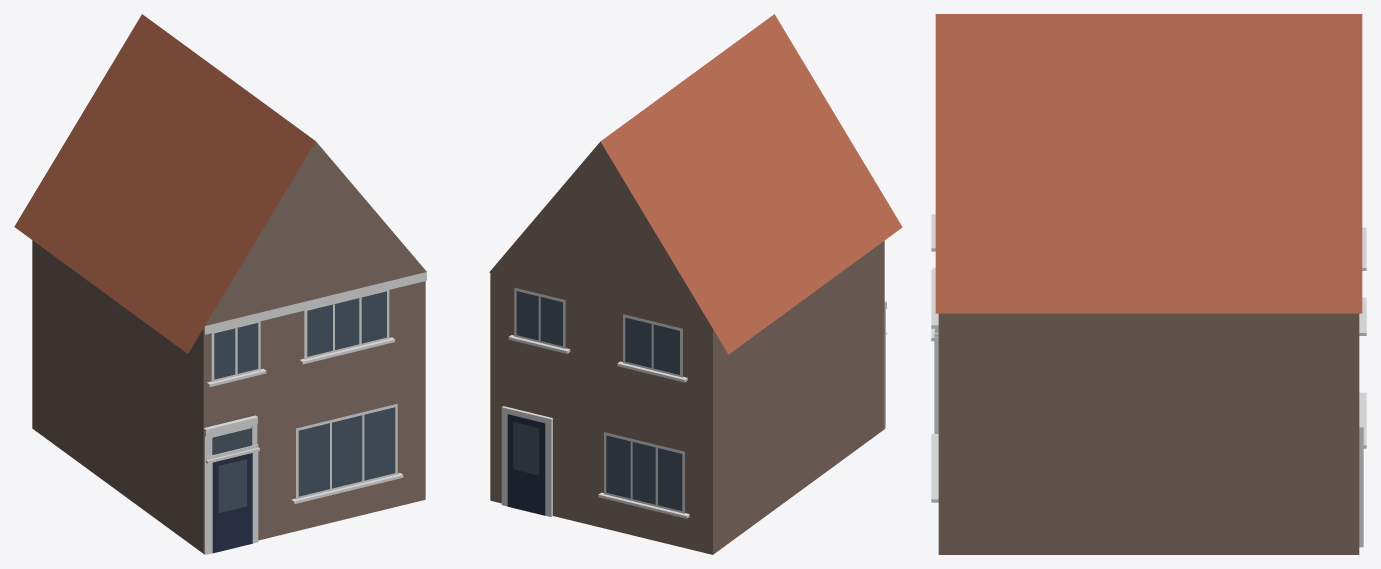
File: nn-row__wide-orange__2__gable__short__solid.glb
3 renders of one model, left to right at view 1: azimuth 30°, elevation 25°; view 2: azimuth 150°, elevation 25°; view 3: azimuth 270°, elevation 25°, orthographic. The views are drawn at different scales.
Parts seen in each view (by area): view 1: nn-row__wide-orange__2__gable__short__solid; view 2: nn-row__wide-orange__2__gable__short__solid; view 3: nn-row__wide-orange__2__gable__short__solid.
Part boxes in pixels (x1,y1,x2,y2): nn-row__wide-orange__2__gable__short__solid: [14, 14, 426, 554]; nn-row__wide-orange__2__gable__short__solid: [489, 14, 902, 554]; nn-row__wide-orange__2__gable__short__solid: [931, 14, 1366, 554].
Size of the model in its own units: 6.09 by 8.79 by 7.3.
